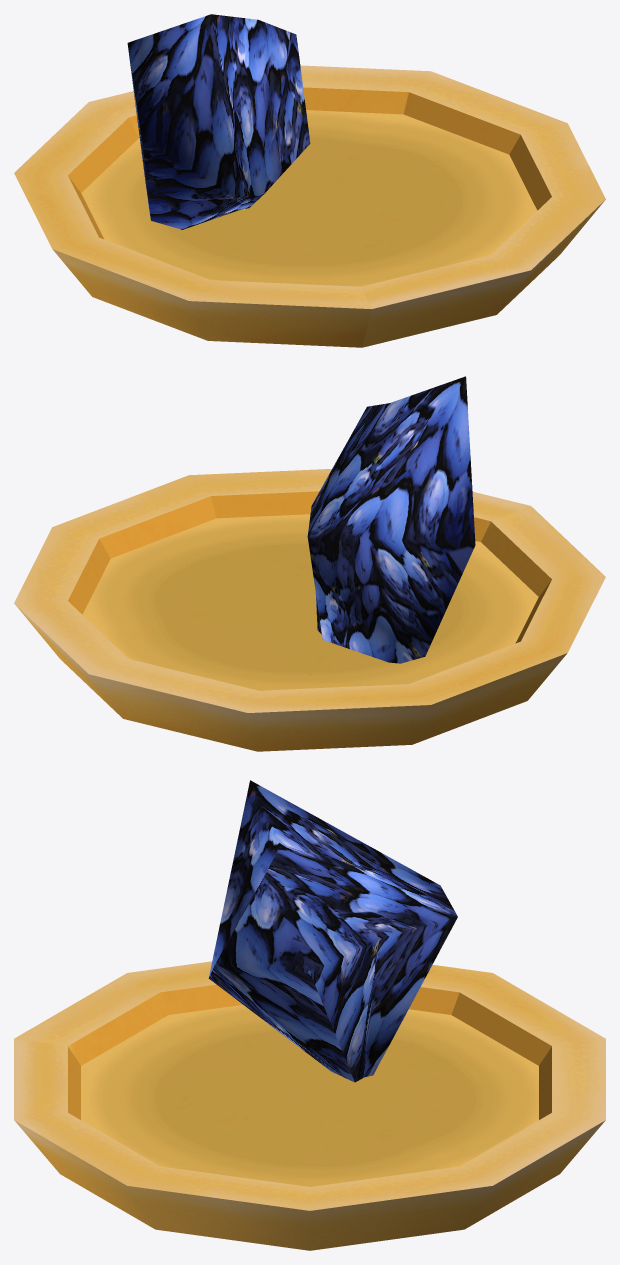
Rendered from grape_3.fbx.
The picture shows the model from 3 angles, top to bottom: view 1: azimuth 30°, elevation 25°; view 2: azimuth 150°, elevation 25°; view 3: azimuth 270°, elevation 25°; orthographic projection. The views are drawn at different scales.
Visible parts, largest first — view 1: Object006; view 2: Object006; view 3: Object006.
Part boxes in pixels (left/top/right/bottom): Object006: left=14, top=14, right=605, bottom=347; Object006: left=14, top=376, right=605, bottom=751; Object006: left=14, top=780, right=605, bottom=1250.
Size of the model in its own units: 20.99 by 10.96 by 19.96.
